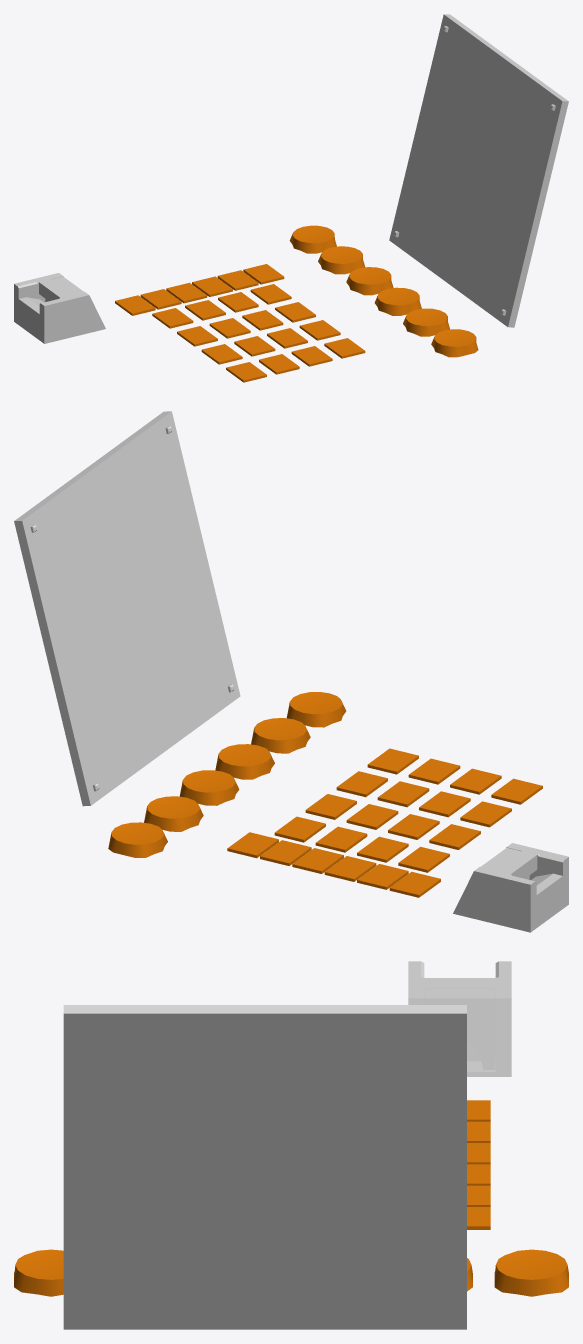
File: Table_Util.fbx
3 views of the same model, one above another, from view 1: azimuth 30°, elevation 25°; view 2: azimuth 150°, elevation 25°; view 3: azimuth 270°, elevation 25° (orthographic). The views are drawn at different scales.
Visible parts, largest first — view 1: Cube.009, Cube.038, Cube.060, Cube.062, Cube.059; view 2: Cube.009, Cube.038, Cube.060, Cube.062, Cube.059; view 3: Cube.009, Cube.060, Cube.062, Cube.059, Cube.064.
Boxes of the visible parts, x1=… form: Cube.009: x1=389, y1=14, x2=568, y2=327; Cube.038: x1=152, y1=284, x2=365, y2=382; Cube.060: x1=289, y1=225, x2=478, y2=357; Cube.062: x1=14, y1=273, x2=105, y2=343; Cube.059: x1=115, y1=264, x2=284, y2=315; Cube.009: x1=14, y1=411, x2=240, y2=806; Cube.038: x1=274, y1=748, x2=542, y2=872; Cube.060: x1=108, y1=692, x2=346, y2=857; Cube.062: x1=453, y1=843, x2=568, y2=932; Cube.059: x1=227, y1=832, x2=440, y2=897; Cube.009: x1=63, y1=1005, x2=466, y2=1329; Cube.060: x1=14, y1=1249, x2=568, y2=1296; Cube.062: x1=408, y1=961, x2=511, y2=1076; Cube.059: x1=467, y1=1100, x2=490, y2=1229; Cube.064: x1=424, y1=988, x2=495, y2=1069.
Size of the model in its own units: 967 by 472 by 647.
